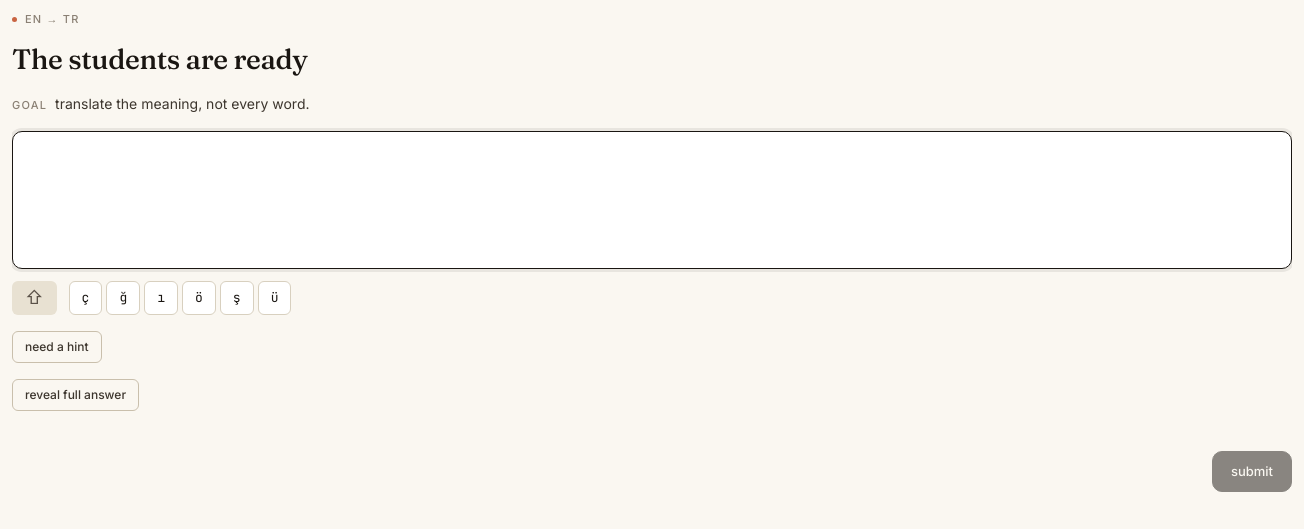
Test: TranslationExercise › word hints › offers a working retry when the hint fetch fails
Click the button "need a hint".
click(57, 347)  # box left=12, top=331, right=102, bottom=363
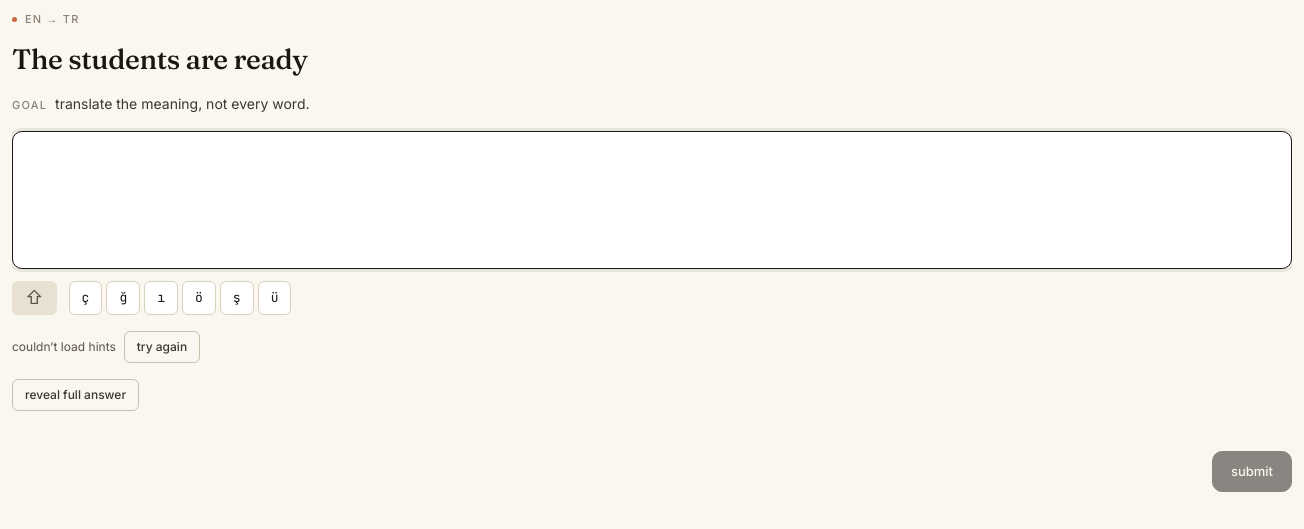
# Retrying re-fires the fetch and the hints load.
Click the button "try again".
click(162, 347)  # box left=124, top=331, right=200, bottom=363
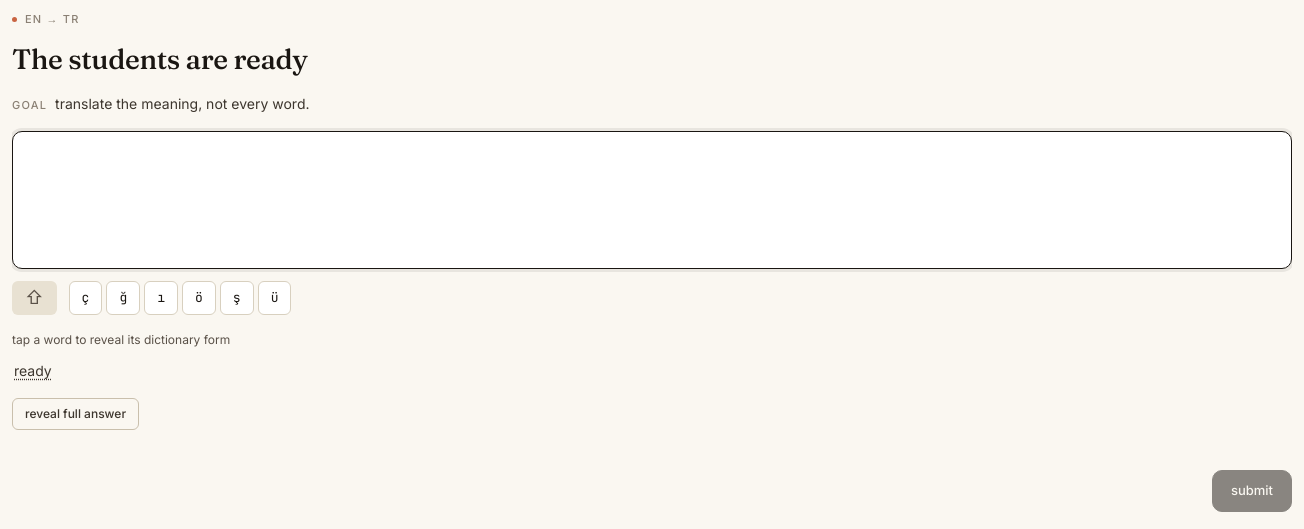
Now the button "ready" is shown, box left=12, top=360, right=54, bottom=382
